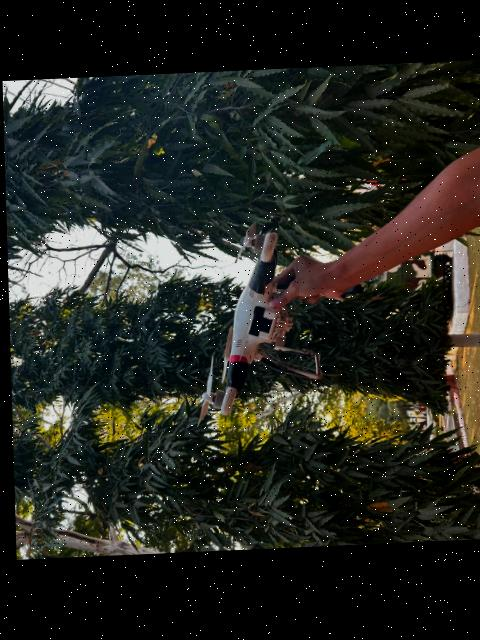drone: (167, 193, 349, 457)
